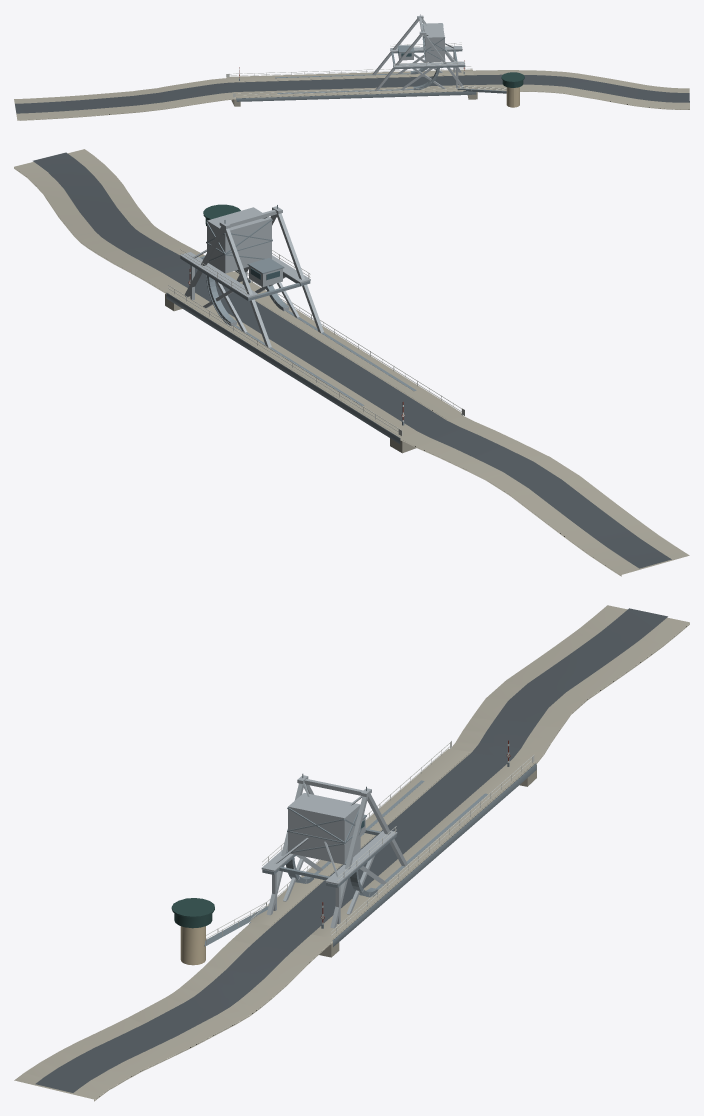
Rendered from pegasus-bridge-far.glb.
The picture shows the model from 3 angles, top to bottom: view 1: azimuth 30°, elevation 25°; view 2: azimuth 150°, elevation 25°; view 3: azimuth 270°, elevation 25°; orthographic projection. The views are drawn at different scales.
Parts seen in each view (by area): view 1: pegasus-bridge-0-concrete, pegasus-bridge-0-asphalt, pegasus-bridge-0-steel, pegasus-bridge-0-edge, pegasus-bridge-0-rail, pegasus-bridge-0-roof, pegasus-bridge-0-tower; view 2: pegasus-bridge-0-concrete, pegasus-bridge-0-asphalt, pegasus-bridge-0-steel, pegasus-bridge-0-edge, pegasus-bridge-0-rail; view 3: pegasus-bridge-0-concrete, pegasus-bridge-0-asphalt, pegasus-bridge-0-steel, pegasus-bridge-0-edge, pegasus-bridge-0-rail, pegasus-bridge-0-roof, pegasus-bridge-0-tower.
Boxes of the visible parts, x1=… form: pegasus-bridge-0-concrete: x1=14, y1=69, x2=689, y2=120; pegasus-bridge-0-asphalt: x1=15, y1=74, x2=689, y2=113; pegasus-bridge-0-steel: x1=372, y1=15, x2=465, y2=90; pegasus-bridge-0-edge: x1=236, y1=14, x2=506, y2=101; pegasus-bridge-0-rail: x1=226, y1=42, x2=506, y2=97; pegasus-bridge-0-roof: x1=501, y1=72, x2=524, y2=87; pegasus-bridge-0-tower: x1=506, y1=87, x2=519, y2=107; pegasus-bridge-0-concrete: x1=14, y1=149, x2=689, y2=576; pegasus-bridge-0-asphalt: x1=33, y1=152, x2=671, y2=568; pegasus-bridge-0-steel: x1=180, y1=206, x2=323, y2=347; pegasus-bridge-0-edge: x1=166, y1=205, x2=462, y2=443; pegasus-bridge-0-rail: x1=168, y1=249, x2=464, y2=436; pegasus-bridge-0-concrete: x1=14, y1=605, x2=689, y2=1101; pegasus-bridge-0-asphalt: x1=35, y1=608, x2=667, y2=1092; pegasus-bridge-0-steel: x1=261, y1=775, x2=407, y2=928; pegasus-bridge-0-edge: x1=204, y1=762, x2=536, y2=946; pegasus-bridge-0-rail: x1=206, y1=741, x2=534, y2=944; pegasus-bridge-0-roof: x1=171, y1=898, x2=214, y2=928; pegasus-bridge-0-tower: x1=180, y1=926, x2=205, y2=965.
Size of the model in its own units: 198 by 24.95 by 115.
